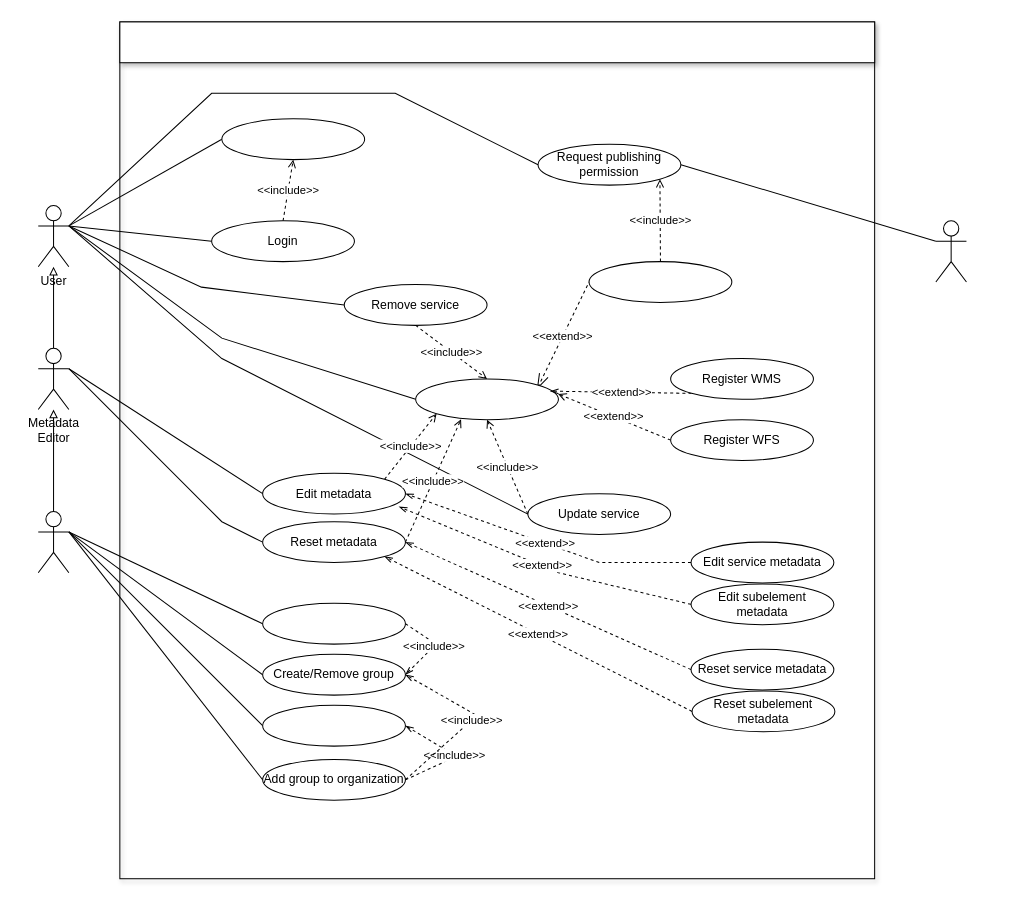
The diagram is 1023 pixels wide and 904 high, and some of its shapes have lost their labels. The centre of each missing label's shape, as x and y in pixels:
Add/Remove user to/from group: [333,623]
Administrator: [53,542]
Create/Remove organization: [333,725]
Mr. Map Use Cases: [498,43]
Register: [293,139]
Register for other organization: [660,281]
Register service: [486,399]
User (other Organization): [950,251]
